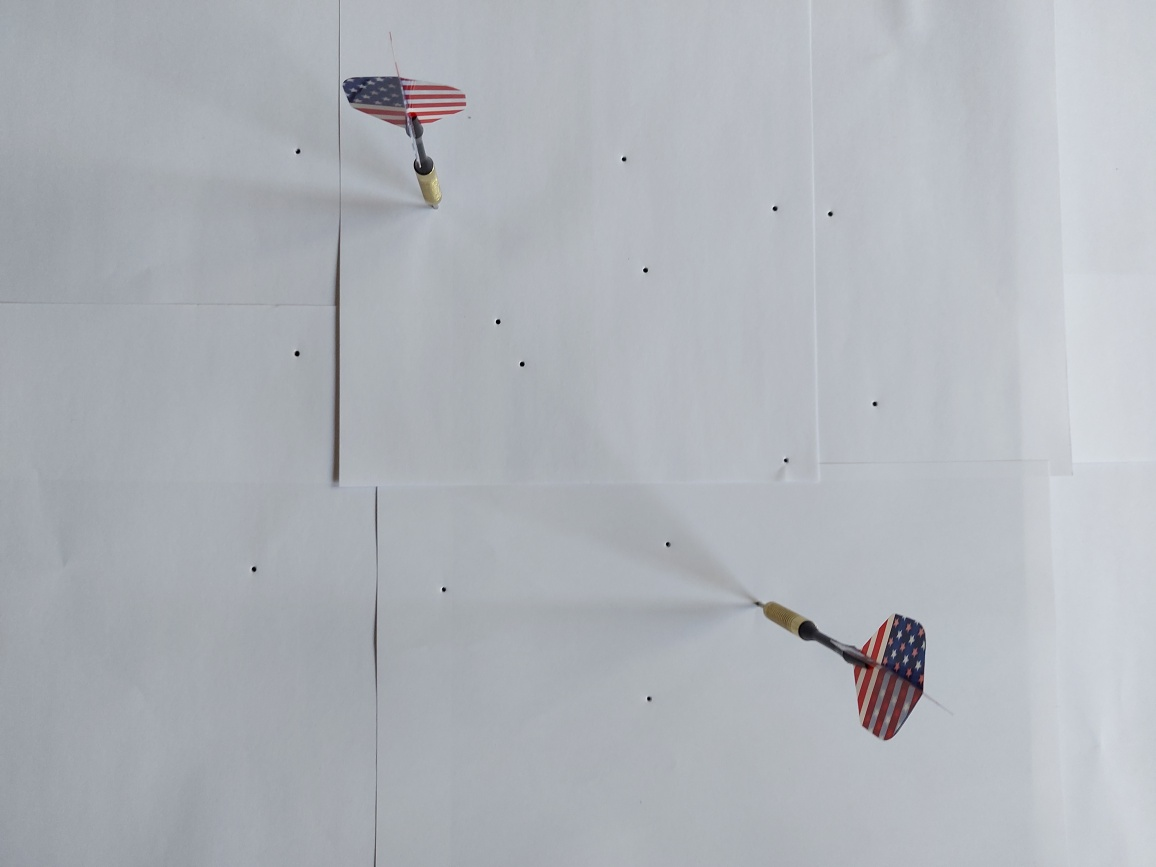Dart: (746, 582, 966, 746), (335, 26, 483, 226)
